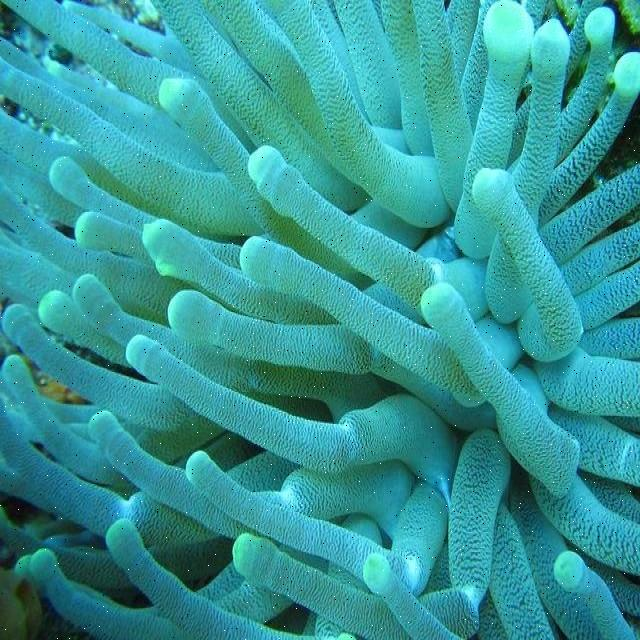reefs: (0, 0, 639, 637)
